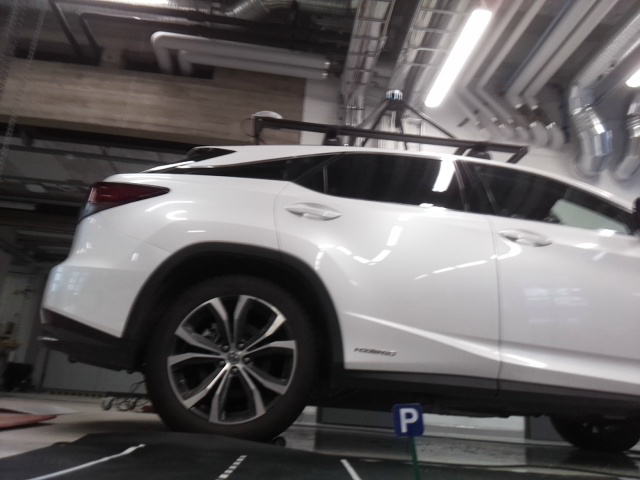Parking: (391, 404, 424, 438)
